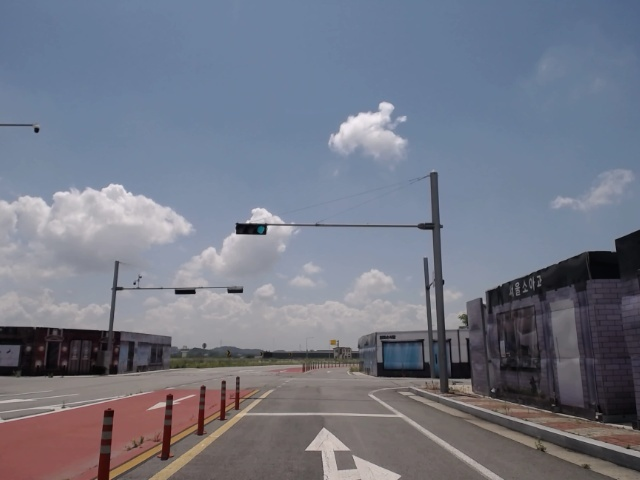green_3: (236, 223, 266, 235)
